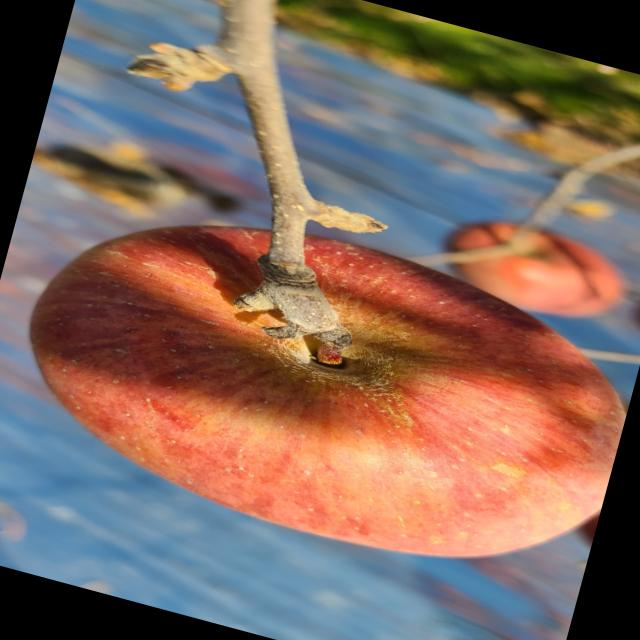fresh: (1, 159, 640, 610)
